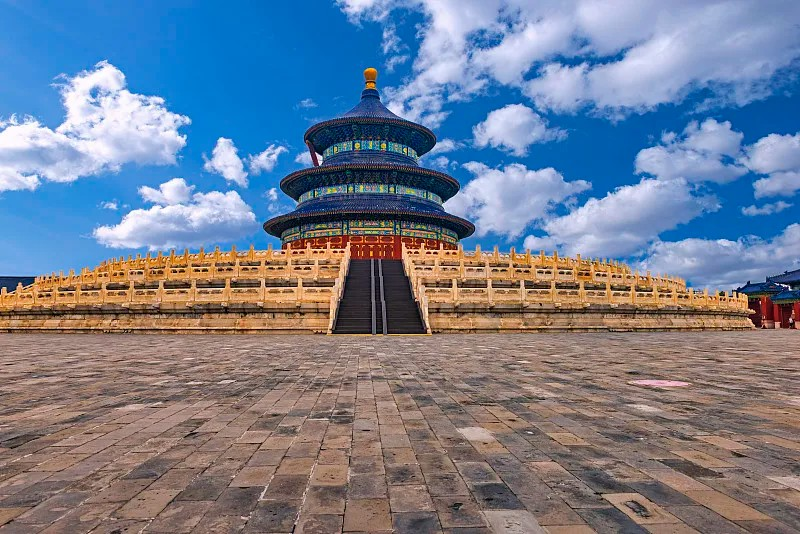Heaven: (264, 67, 476, 259)
